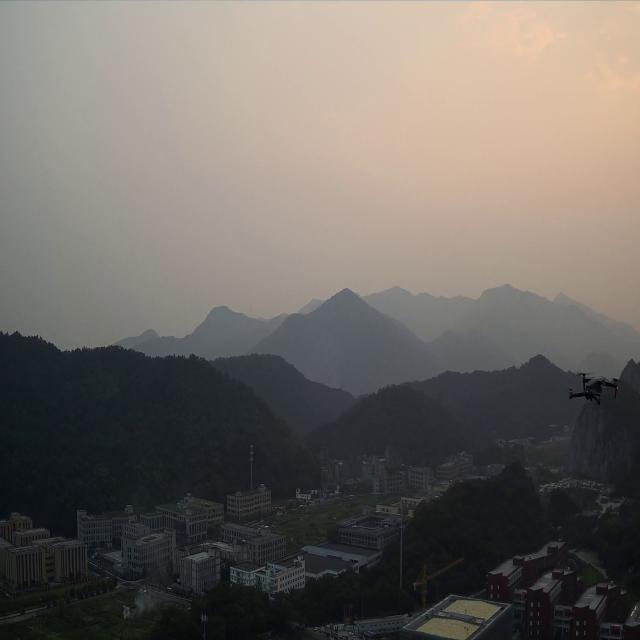UAV: (568, 371, 619, 406)
